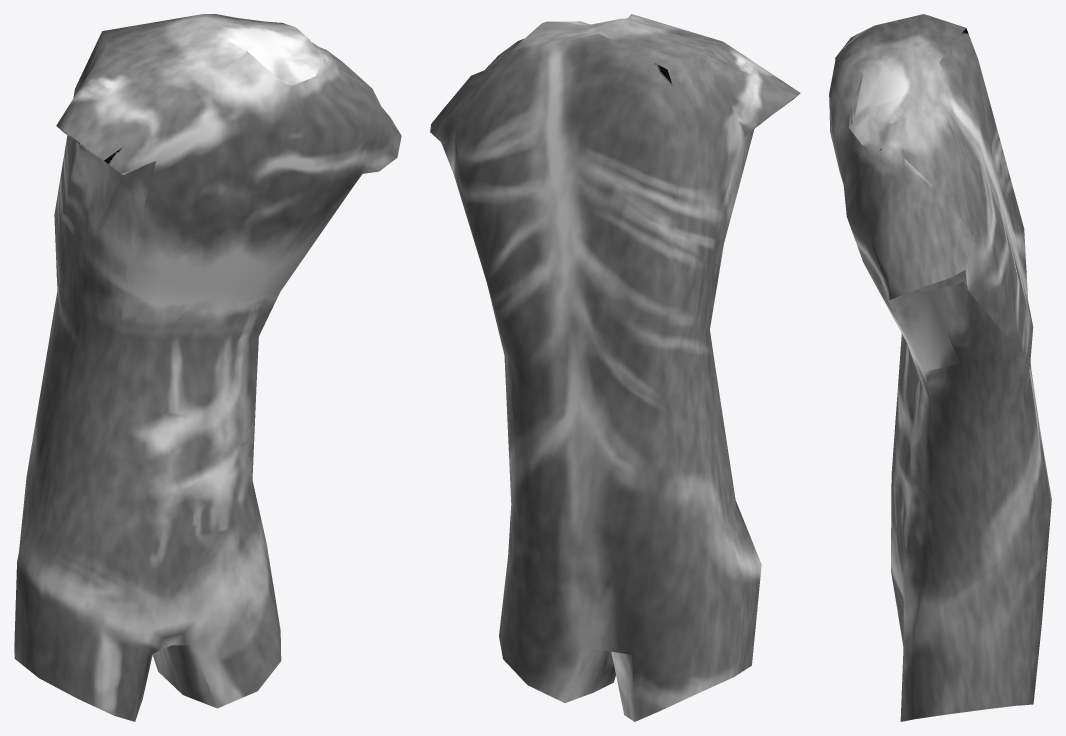
File: body.obj
3 views of the same model, side by side, from view 1: azimuth 30°, elevation 25°; view 2: azimuth 150°, elevation 25°; view 3: azimuth 270°, elevation 25° (orthographic). The views are drawn at different scales.
Parts seen in each view (by area): view 1: body; view 2: body; view 3: body.
Part boxes in pixels (box(x1,y1,x2,y2)): body: box(14, 14, 401, 721); body: box(430, 14, 800, 721); body: box(829, 14, 1051, 721).
Size of the model in its own units: 65.31 by 122 by 37.03.
1 material, 1 textured.
